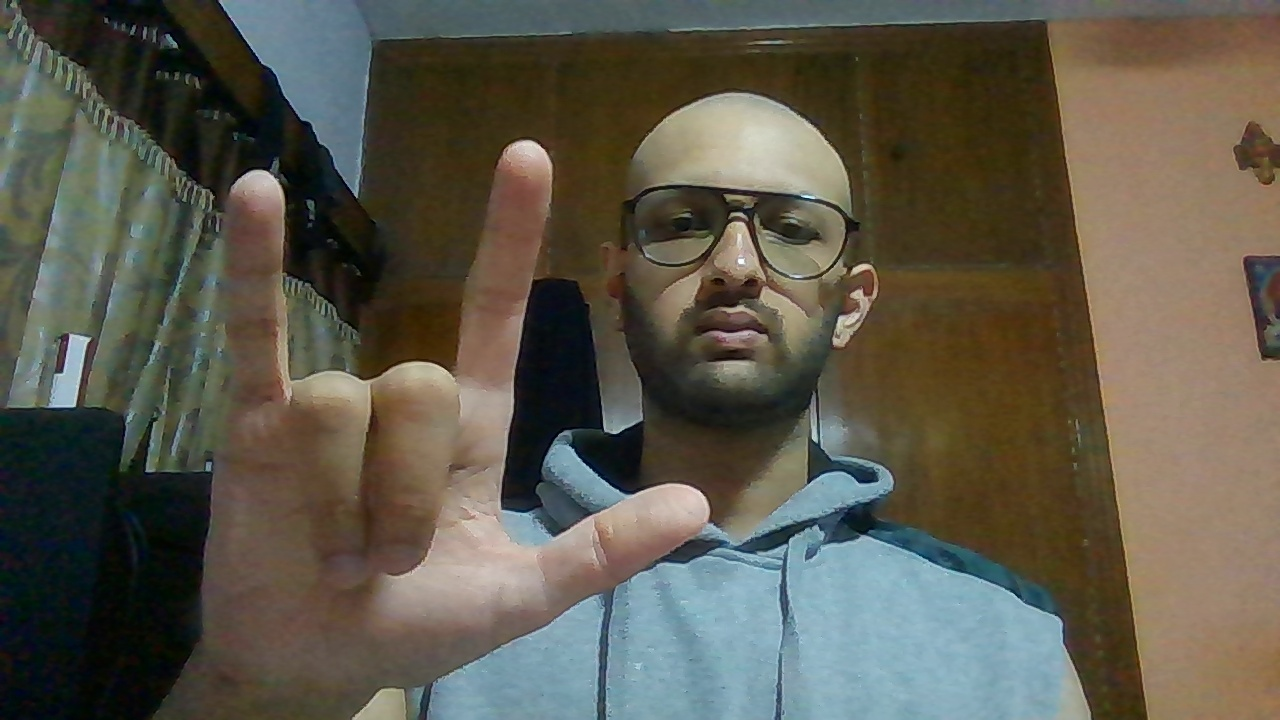I Love You: (193, 143, 711, 680)
